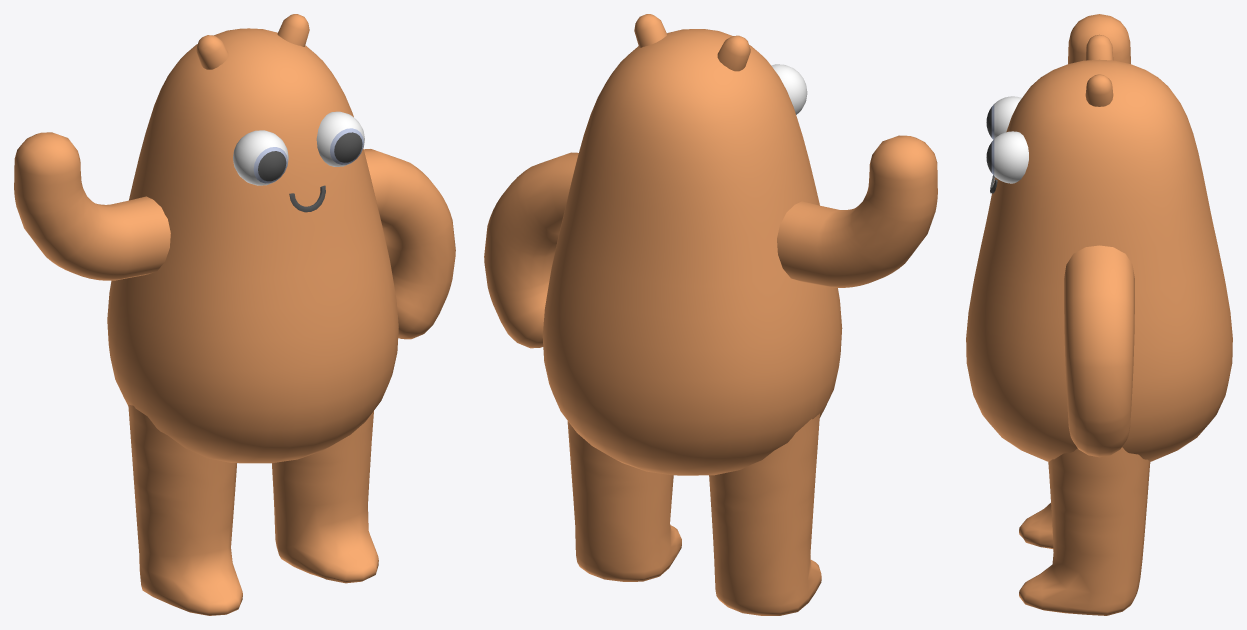
3 renders of one model, left to right at view 1: azimuth 30°, elevation 25°; view 2: azimuth 150°, elevation 25°; view 3: azimuth 270°, elevation 25°, orthographic. The views are drawn at different scales.
Parts seen in each view (by area): view 1: body, leg_L, arm_R, arm_L, eyes-whiteMTL, ears, eyes-blackMTL, eyes-blueMTL; view 2: body, leg_L, arm_R, arm_L, ears, eyes-whiteMTL; view 3: body, leg_L, arm_L, eyes-whiteMTL, arm_R, ears.
Boxes of the visible parts, x1,y1,x2,y2 form: body: (107,28,398,463); leg_L: (128,404,378,615); arm_R: (14,132,170,280); arm_L: (363,149,455,339); eyes-whiteMTL: (233,111,364,185); ears: (196,14,309,69); eyes-blackMTL: (258,132,362,181); eyes-blueMTL: (253,128,363,183); body: (542,29,842,475); leg_L: (567,413,821,615); arm_R: (777,135,937,287); arm_L: (484,152,578,348); ears: (634,14,750,71); eyes-whiteMTL: (771,64,807,114); body: (966,59,1232,461); leg_L: (1019,447,1150,615); arm_L: (1064,245,1134,457); eyes-whiteMTL: (994,96,1028,183); arm_R: (1068,14,1130,63); ears: (1085,34,1113,106).
Size of the model in its own units: 0.1059 by 0.1271 by 0.06.
